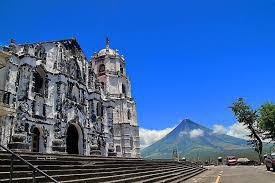daraga_church_daraga_albay: (6, 30, 142, 159)
